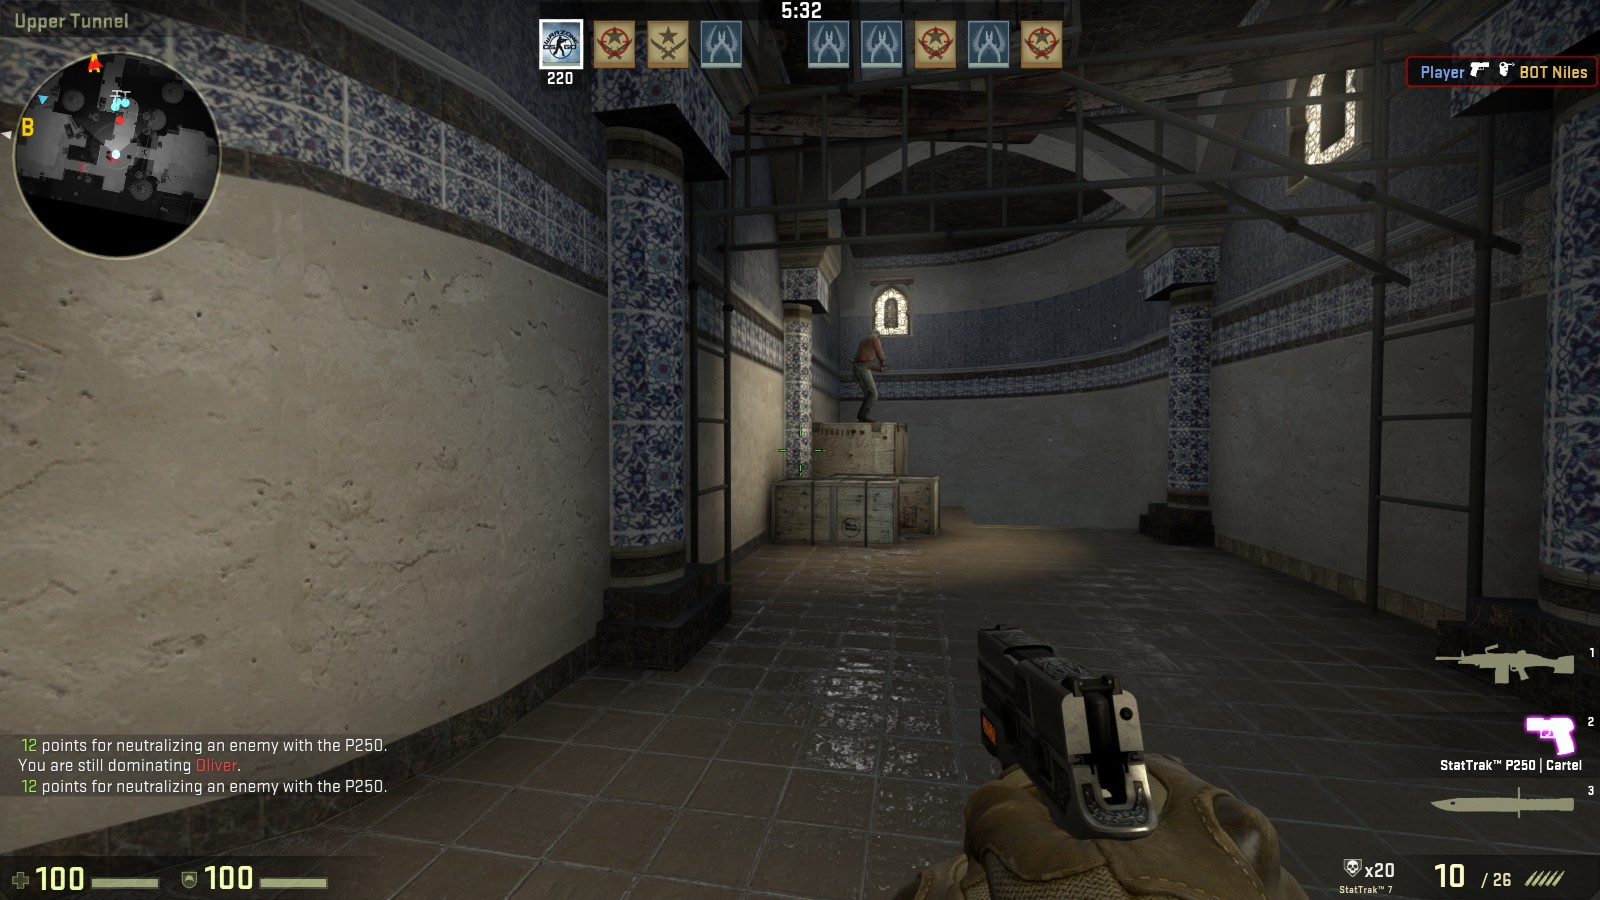t: (851, 329, 884, 423)
th: (868, 329, 882, 343)
